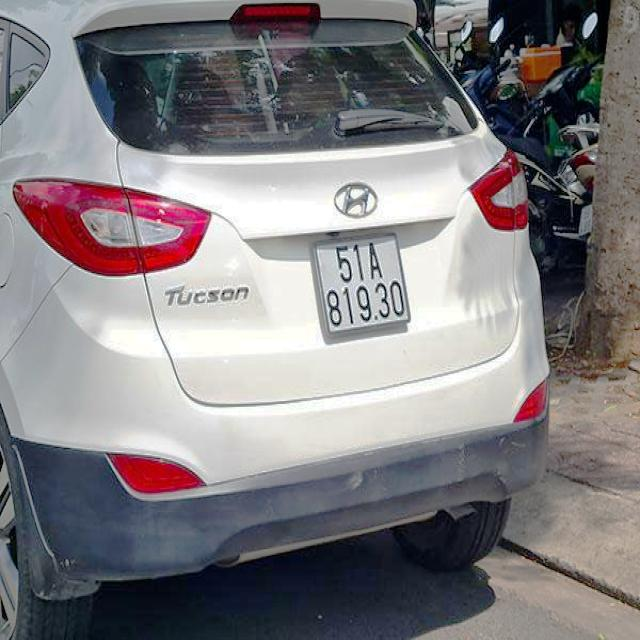license_plate: (315, 235, 412, 339)
